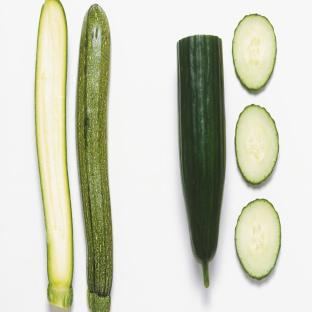Cucumber: (177, 36, 225, 287), (35, 0, 73, 308), (77, 5, 112, 311), (235, 199, 280, 279), (235, 105, 278, 184), (233, 14, 276, 90)
